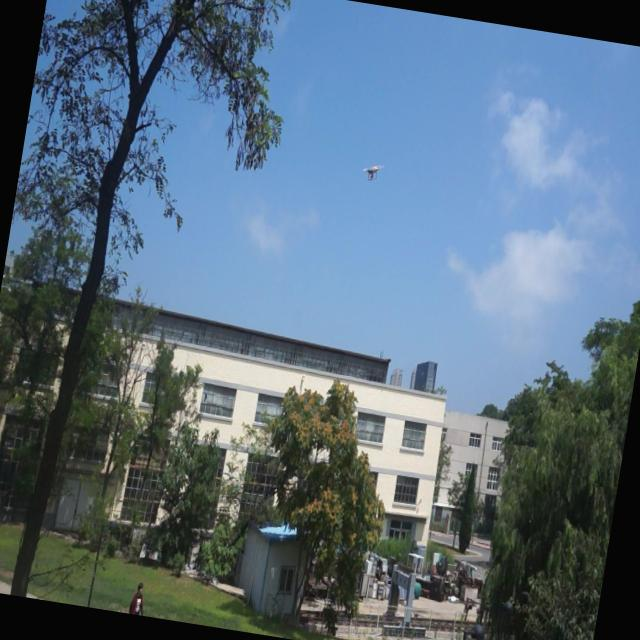drone: (360, 158, 384, 187)
